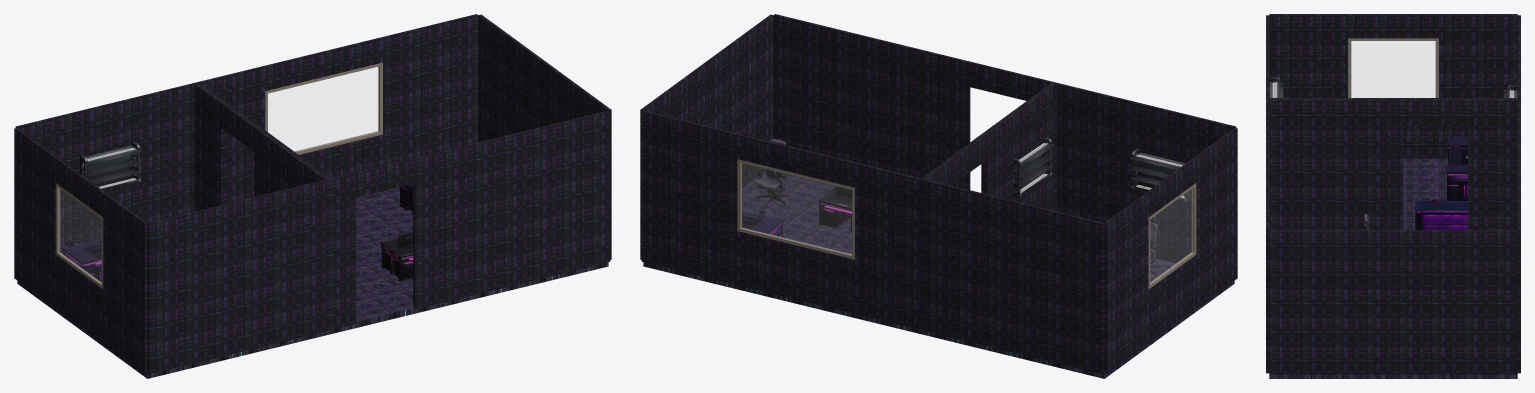
The model's file is cyberpunk-office.glb.
The picture shows the model from 3 angles, left to right: view 1: azimuth 30°, elevation 25°; view 2: azimuth 150°, elevation 25°; view 3: azimuth 270°, elevation 25°; orthographic projection. The views are drawn at different scales.
Visible parts, largest first — view 1: geometry_0.015, geometry_0.003, geometry_0.017, geometry_0.002, geometry_0.001, geometry_0.016, geometry_0.013, geometry_0.018, glass.001, glass, geometry_0.005, geometry_0 (+5 smaller); view 2: geometry_0.017, geometry_0.001, geometry_0.015, geometry_0.002, geometry_0.003, geometry_0.016, glass.001, geometry_0.018, geometry_0.013, glass, geometry_0, frame.001 (+7 smaller); view 3: geometry_0.016, geometry_0.004, geometry_0.002, glass, geometry_0, geometry_0.008, geometry_0.006, geometry_0.013, geometry_0.015, geometry_0.017, frame, geometry_0.018 (+3 smaller).
Part boxes in pixels (x1=…): geometry_0.015: x1=328, y1=110, x2=610, y2=329; geometry_0.003: x1=147, y1=179, x2=329, y2=374; geometry_0.017: x1=196, y1=14, x2=478, y2=203; geometry_0.002: x1=14, y1=128, x2=147, y2=373; geometry_0.001: x1=15, y1=82, x2=197, y2=254; geometry_0.016: x1=478, y1=14, x2=611, y2=259; geometry_0.013: x1=327, y1=187, x2=608, y2=334; geometry_0.018: x1=194, y1=84, x2=327, y2=211; glass.001: x1=268, y1=67, x2=378, y2=151; glass: x1=59, y1=189, x2=101, y2=282; geometry_0.005: x1=80, y1=141, x2=141, y2=189; geometry_0: x1=17, y1=281, x2=327, y2=378; geometry_0.017: x1=641, y1=110, x2=923, y2=329; geometry_0.001: x1=922, y1=179, x2=1104, y2=374; geometry_0.015: x1=773, y1=14, x2=1055, y2=189; geometry_0.002: x1=1104, y1=128, x2=1237, y2=373; geometry_0.003: x1=1054, y1=82, x2=1236, y2=263; geometry_0.016: x1=640, y1=14, x2=773, y2=259; glass.001: x1=741, y1=163, x2=851, y2=254; geometry_0.018: x1=924, y1=84, x2=1057, y2=211; geometry_0.013: x1=643, y1=171, x2=924, y2=334; glass: x1=1150, y1=189, x2=1192, y2=282; geometry_0: x1=924, y1=258, x2=1234, y2=378; frame.001: x1=737, y1=159, x2=854, y2=259; geometry_0.016: x1=1269, y1=230, x2=1517, y2=374; geometry_0.004: x1=1269, y1=99, x2=1517, y2=229; geometry_0.002: x1=1269, y1=14, x2=1517, y2=158; glass: x1=1351, y1=41, x2=1435, y2=97; geometry_0: x1=1403, y1=158, x2=1447, y2=229; geometry_0.008: x1=1415, y1=200, x2=1467, y2=229; geometry_0.006: x1=1445, y1=137, x2=1467, y2=200; geometry_0.013: x1=1269, y1=374, x2=1517, y2=378; geometry_0.015: x1=1266, y1=99, x2=1269, y2=373; geometry_0.017: x1=1517, y1=99, x2=1520, y2=373; frame: x1=1348, y1=38, x2=1438, y2=97; geometry_0.018: x1=1269, y1=98, x2=1517, y2=99.
Size of the model in its own units: 9.12 by 2.91 by 4.52.
Materials: 11 (9 with a texture image).
